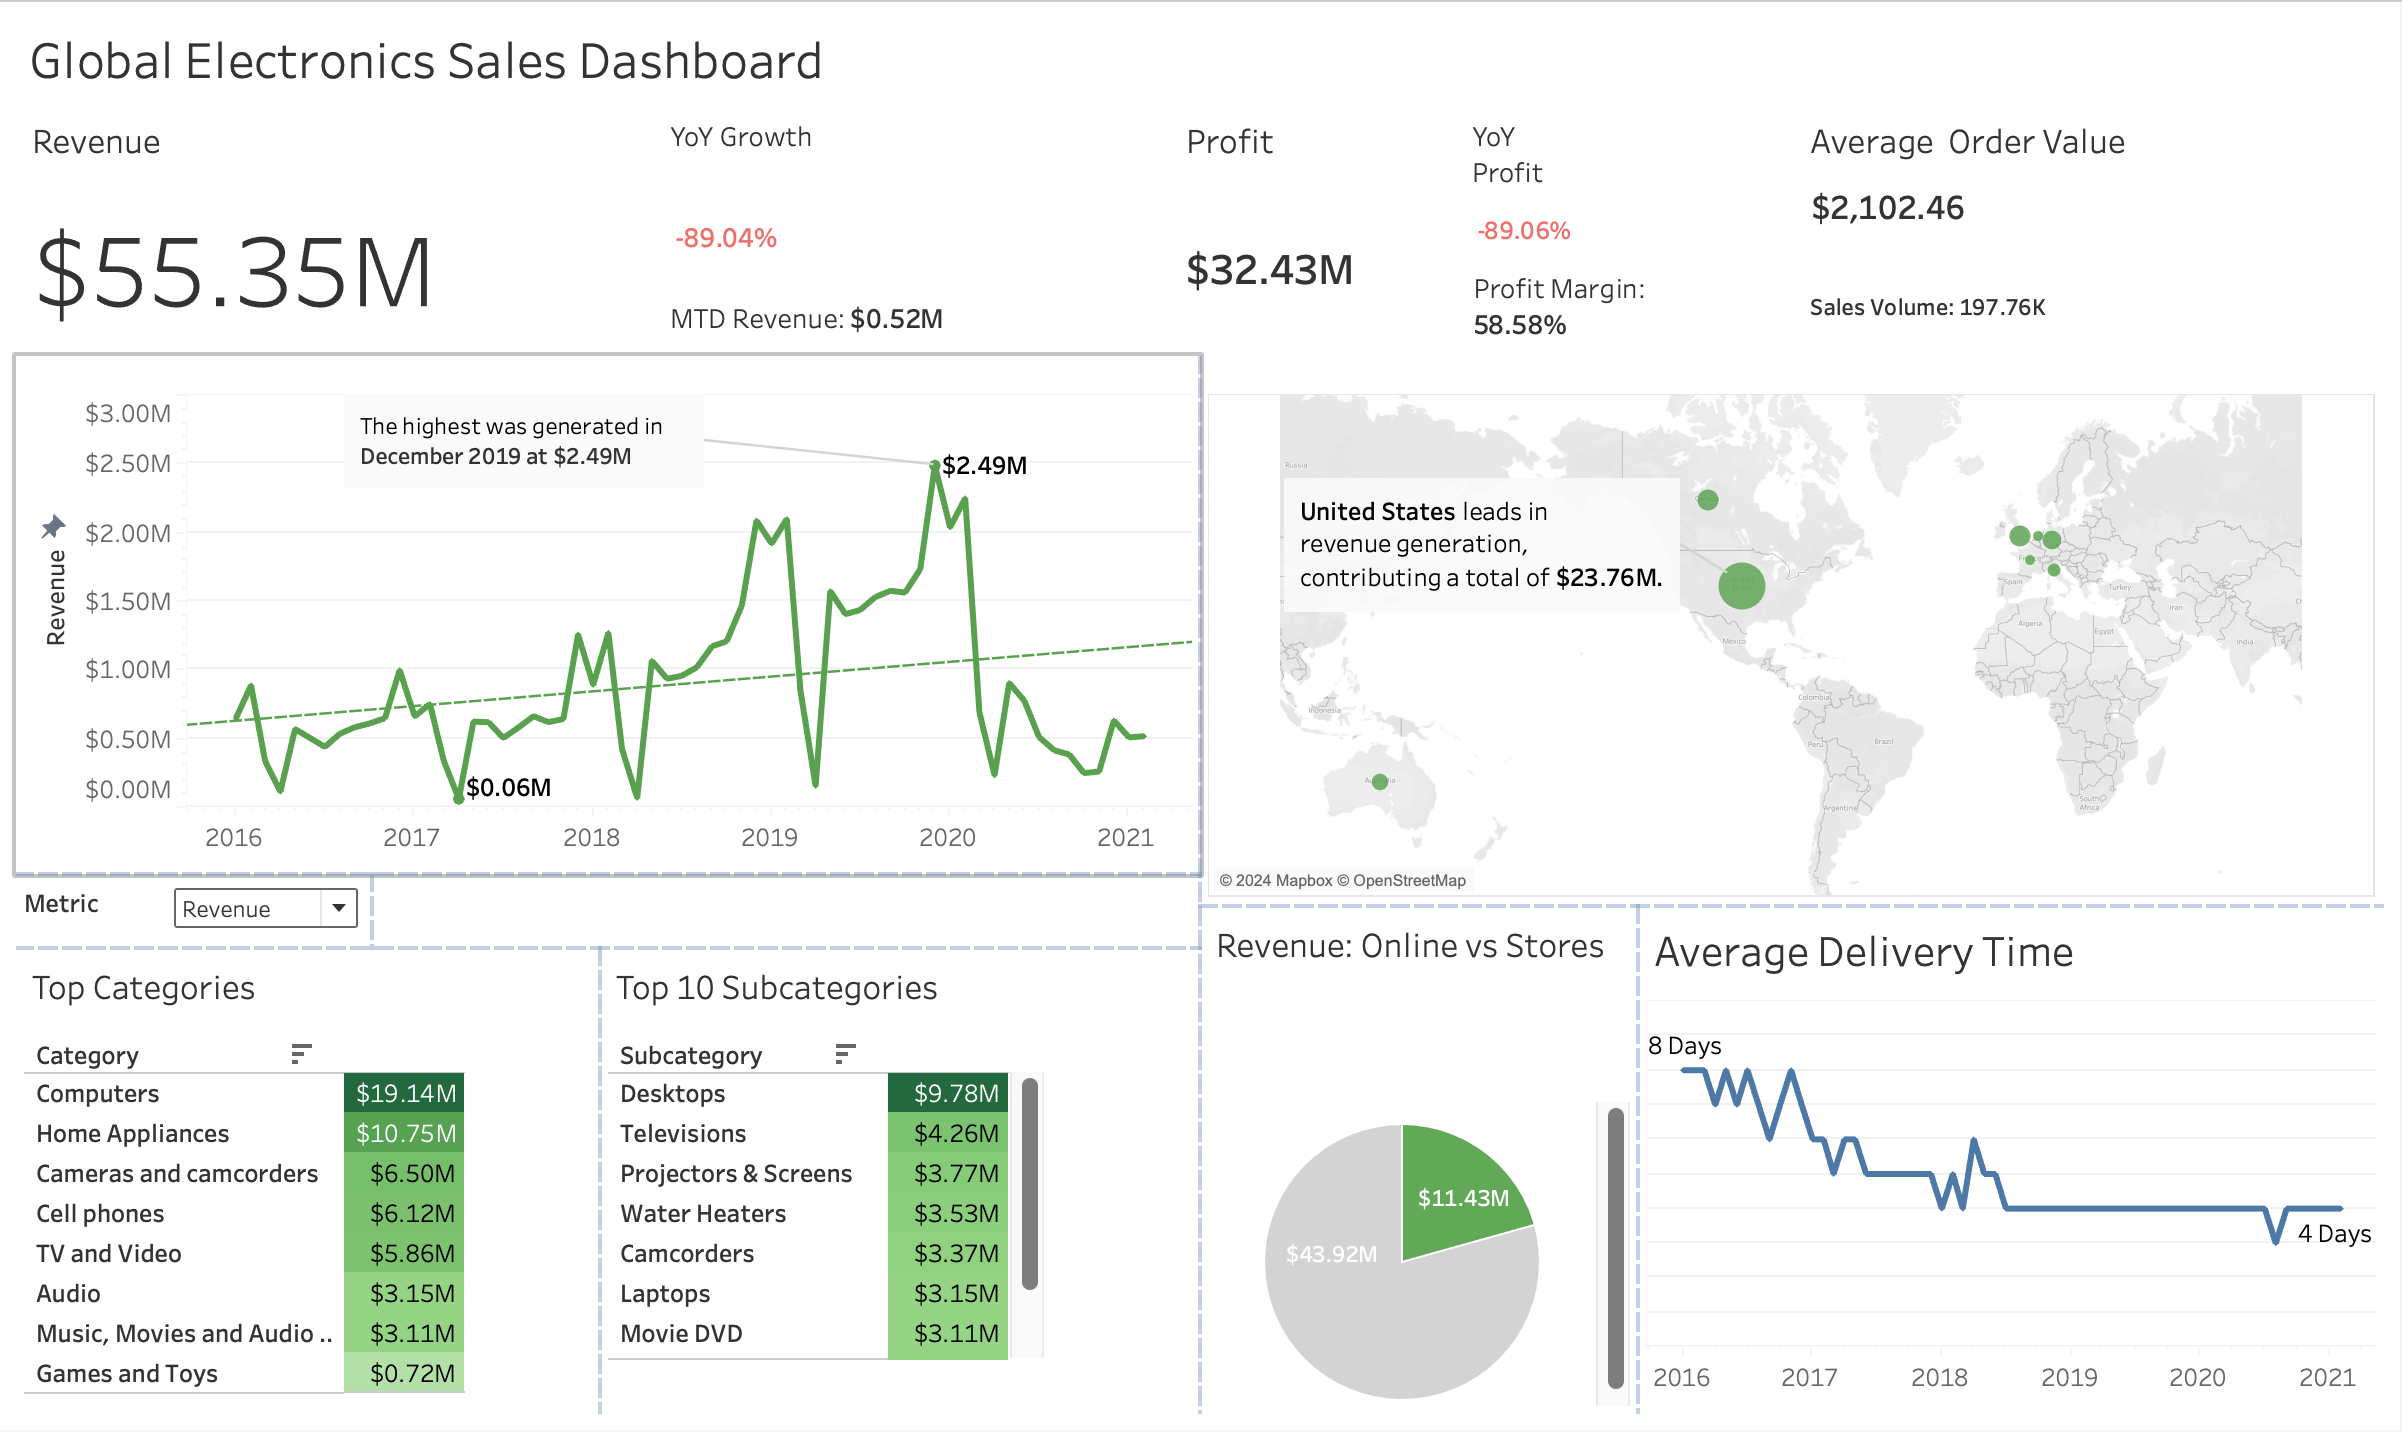

This screenshot's page, from the dashboard's own definition file:
{"tool":"tableau","page":{"name":"Dashboard","canvas":[1000,1000],"units":"permille","ordinal":0},"visuals":[{"type":"title","box":[6.7,11.2,986.7,58.8]},{"type":"worksheet","title":"Revenue","mark":"Automatic","box":[6.7,70,265.4,177.8]},{"type":"worksheet","title":"YOY Revenue","mark":"Text","rows":["year"],"box":[272.1,70,215.4,107.8]},{"type":"worksheet","title":"Total Profit","mark":"Text","box":[487.5,70,119.6,177.8]},{"type":"worksheet","title":"YOY Profit","mark":"Automatic","cols":["year"],"box":[607.1,70,140.2,105]},{"type":"worksheet","title":"AOV","mark":"Automatic","box":[747.3,70,246.1,88.2]},{"type":"worksheet","title":"Sales Volume","mark":"Automatic","box":[747.3,158.2,246.1,89.6]},{"type":"worksheet","title":"Profit Margin","mark":"Automatic","box":[607.1,175.1,140.2,72.7]},{"type":"worksheet","title":"Monthly Revenue","mark":"Automatic","cols":["Calculation_3511118887708311553"],"box":[272.1,177.9,215.4,69.9]},{"type":"worksheet","title":"Revenue, Profit by Year","mark":"Automatic","rows":["Calculation_6496301755606704130"],"cols":["Calculation_6496301755602513921"],"box":[6.7,247.8,493.3,362.8]},{"type":"worksheet","title":"Revenue By Region","mark":"Circle","box":[500,247.8,493.3,384.6]},{"type":"parameter","param":"[Parameters].[Parameter 1]","box":[6.7,610.6,148.3,51.8]},{"type":"blank","box":[155,610.6,345,51.8]},{"type":"worksheet","title":"Revenue: Stores vs Online","mark":"Pie","box":[500,632.4,182.5,356.4]},{"type":"worksheet","title":"Delivery","mark":"Automatic","rows":["Average Delivery Time"],"cols":["Calculation_3511118887732576258"],"box":[682.4,632.4,310.9,356.4]},{"type":"worksheet","title":"Top Categories By Sales","mark":"Automatic","rows":["category"],"box":[6.7,662.5,243.3,326.3]},{"type":"worksheet","title":"Top 10 Subcategories","mark":"Square","rows":["subcategory"],"box":[250,662.5,250,326.3]}]}

Visuals, with their boxes on the dashboard's canvas, which has no fixed pixel size, in thousandths of its width and height (x1, y1, x2, y2). These are canvas units, not pixel positions in the 2402x1432 screenshot, which may show the page scaled, cropped or inside an application window:
title: (x1=7, y1=11, x2=993, y2=70)
"Revenue" worksheet: (x1=7, y1=70, x2=272, y2=248)
"YOY Revenue" worksheet (Text marks): (x1=272, y1=70, x2=488, y2=178)
"Total Profit" worksheet (Text marks): (x1=488, y1=70, x2=607, y2=248)
"YOY Profit" worksheet: (x1=607, y1=70, x2=747, y2=175)
"AOV" worksheet: (x1=747, y1=70, x2=993, y2=158)
"Sales Volume" worksheet: (x1=747, y1=158, x2=993, y2=248)
"Profit Margin" worksheet: (x1=607, y1=175, x2=747, y2=248)
"Monthly Revenue" worksheet: (x1=272, y1=178, x2=488, y2=248)
"Revenue, Profit by Year" worksheet: (x1=7, y1=248, x2=500, y2=611)
"Revenue By Region" worksheet (Circle marks): (x1=500, y1=248, x2=993, y2=632)
parameter: (x1=7, y1=611, x2=155, y2=662)
blank: (x1=155, y1=611, x2=500, y2=662)
"Revenue: Stores vs Online" worksheet (Pie marks): (x1=500, y1=632, x2=682, y2=989)
"Delivery" worksheet: (x1=682, y1=632, x2=993, y2=989)
"Top Categories By Sales" worksheet: (x1=7, y1=662, x2=250, y2=989)
"Top 10 Subcategories" worksheet (Square marks): (x1=250, y1=662, x2=500, y2=989)
